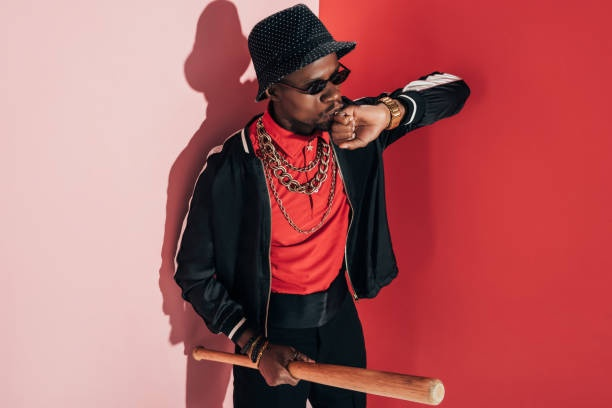bita: (192, 345, 445, 403)
